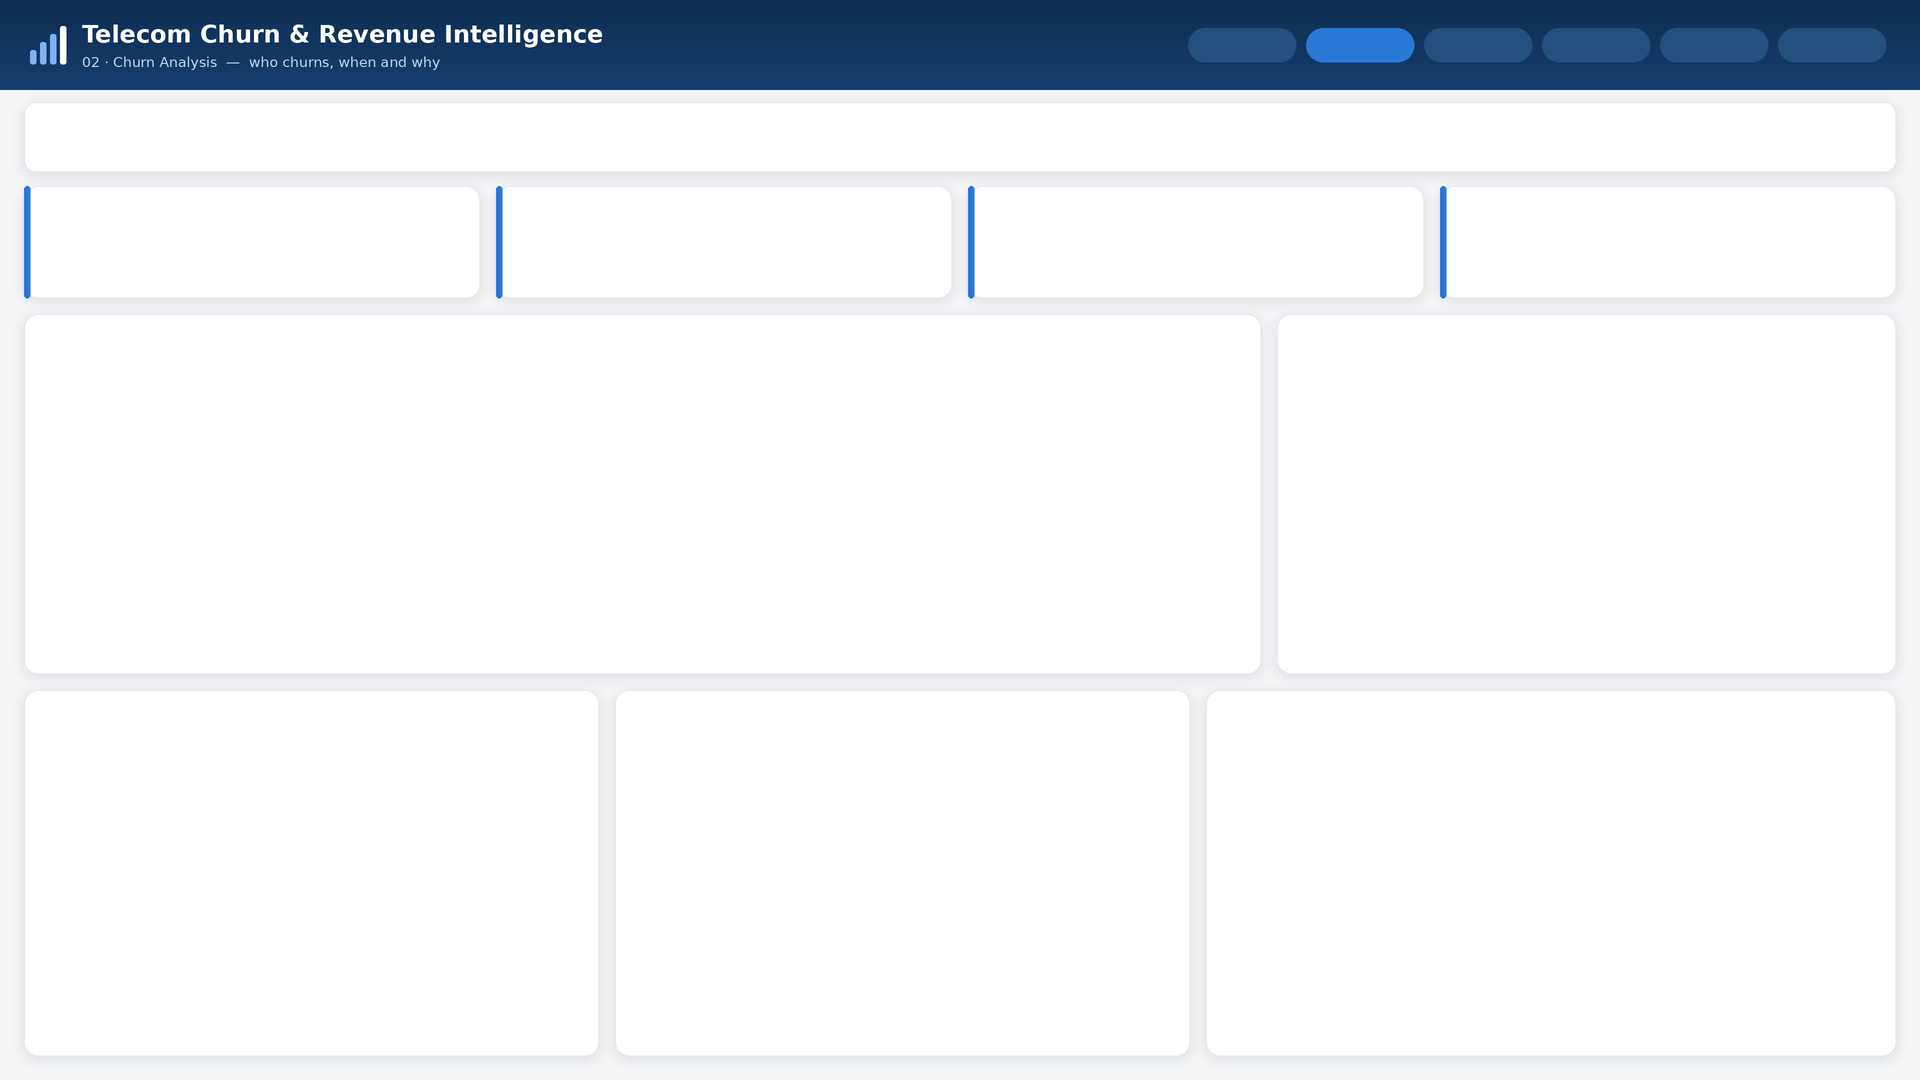

This screenshot's page, from the dashboard's own definition file:
{"tool":"powerbi","page":{"name":"Churn Analysis","canvas":[1280,720],"ordinal":1},"visuals":[{"type":"slicer","fields":{"Values":["dim_date.fiscal_year"]},"box":[26,69,299.5,44.7],"z":0},{"type":"slicer","fields":{"Values":["dim_geography.circle"]},"box":[335.5,69,299.5,44.7],"z":1000},{"type":"slicer","fields":{"Values":["dim_customer.service_type"]},"box":[645,69,299.5,44.7],"z":2000},{"type":"slicer","fields":{"Values":["dim_customer.contract_type"]},"box":[954.5,69,299.5,44.7],"z":3000},{"type":"card","fields":{"Values":["_Measures.Total Customers"]},"box":[28,128,288,66.7],"z":4000},{"type":"card","fields":{"Values":["_Measures.Churned Customers"]},"box":[342.7,128,288,66.7],"z":5000},{"type":"card","fields":{"Values":["_Measures.Churn Rate %"]},"box":[657.3,128,288,66.7],"z":6000},{"type":"card","fields":{"Values":["_Measures.Avg Monthly Churn Rate %"]},"box":[972,128,288,66.7],"z":7000},{"type":"lineChart","title":"Monthly churn rate (Jul-24 tariff hike, Apr-25 competitor 5G)","fields":{"Category":["dim_date.month_start"],"Y":["_Measures.Monthly Churn Rate %"]},"box":[20,213.3,816.7,232],"z":8000},{"type":"clusteredColumnChart","title":"Churn rate by tenure","fields":{"Category":["dim_customer.tenure_band"],"Y":["_Measures.Churn Rate %"]},"box":[855.3,213.3,404.7,232],"z":9000},{"type":"pivotTable","title":"Churn rate: service x contract","fields":{"Columns":["dim_customer.contract_type"],"Rows":["dim_customer.service_type"],"Values":["_Measures.Churn Rate %"]},"box":[20,464,375.3,236],"z":10000},{"type":"clusteredBarChart","title":"Churn reasons","fields":{"Category":["dim_customer.churn_reason"],"Y":["_Measures.Churned Customers"]},"box":[414,464,375.3,236],"z":11000},{"type":"clusteredBarChart","title":"Churn rate by payment method","fields":{"Category":["dim_customer.payment_method"],"Y":["_Measures.Churn Rate %"]},"box":[808,464,452,236],"z":12000}]}

Visuals, with their boxes on the page's 1280x720 design canvas (x1, y1, x2, y2). These are canvas units, not pixel positions in the 1920x1080 screenshot, which may show the page scaled, cropped or inside an application window:
slicer - dim_date.fiscal_year: {"left": 26, "top": 69, "right": 326, "bottom": 114}
slicer - dim_geography.circle: {"left": 336, "top": 69, "right": 635, "bottom": 114}
slicer - dim_customer.service_type: {"left": 645, "top": 69, "right": 944, "bottom": 114}
slicer - dim_customer.contract_type: {"left": 954, "top": 69, "right": 1254, "bottom": 114}
card - _Measures.Total Customers: {"left": 28, "top": 128, "right": 316, "bottom": 195}
card - _Measures.Churned Customers: {"left": 343, "top": 128, "right": 631, "bottom": 195}
card - _Measures.Churn Rate %: {"left": 657, "top": 128, "right": 945, "bottom": 195}
card - _Measures.Avg Monthly Churn Rate %: {"left": 972, "top": 128, "right": 1260, "bottom": 195}
"Monthly churn rate (Jul-24 tariff hike, Apr-25 competitor 5G)" lineChart: {"left": 20, "top": 213, "right": 837, "bottom": 445}
"Churn rate by tenure" clusteredColumnChart: {"left": 855, "top": 213, "right": 1260, "bottom": 445}
"Churn rate: service x contract" pivotTable: {"left": 20, "top": 464, "right": 395, "bottom": 700}
"Churn reasons" clusteredBarChart: {"left": 414, "top": 464, "right": 789, "bottom": 700}
"Churn rate by payment method" clusteredBarChart: {"left": 808, "top": 464, "right": 1260, "bottom": 700}
